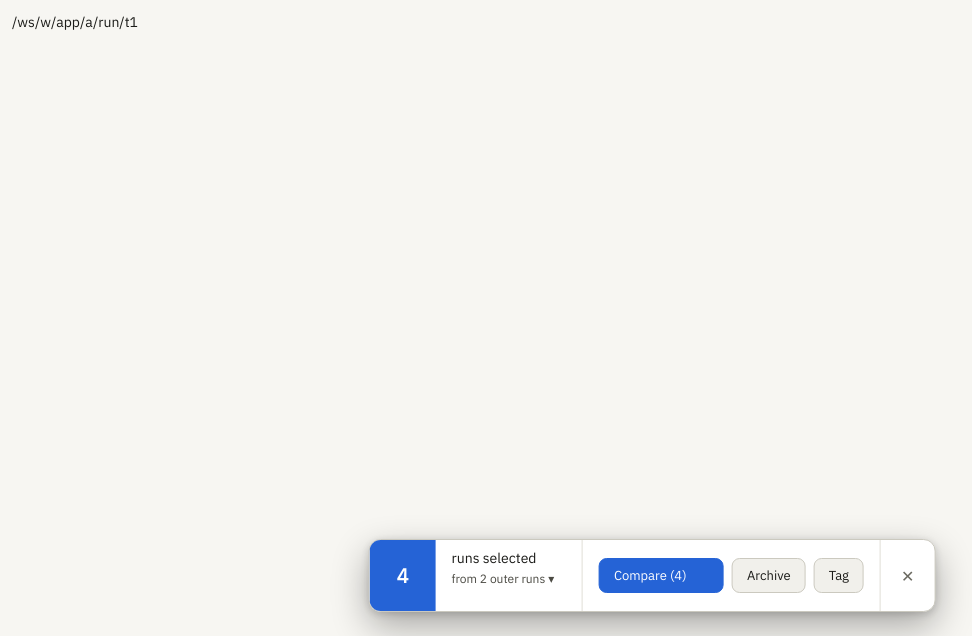
Scenario: the expanded tray › removes one pick
Step 1. Click the button "from 2 outer runs ▾" → (503, 578), box left=452, top=571, right=554, bottom=586
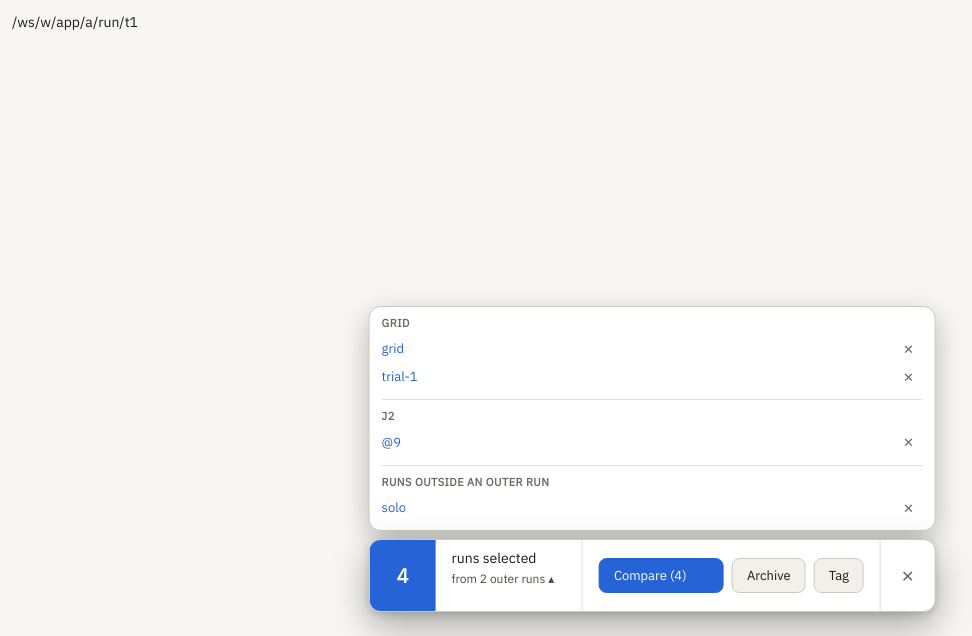
Step 2. Click the button named "Remove trial-1" → (908, 377), box left=894, top=363, right=922, bottom=391
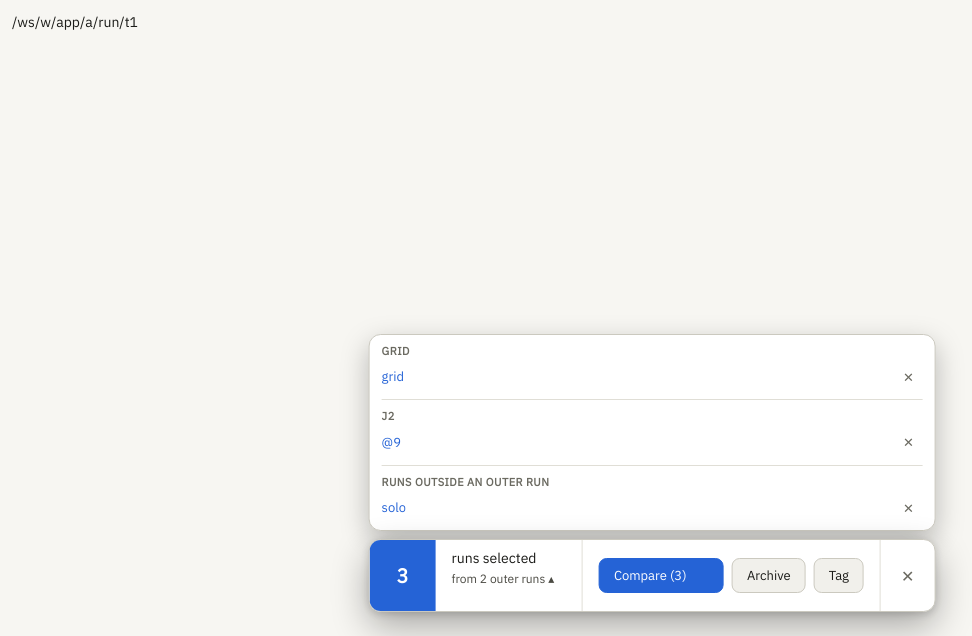
Result: the link "trial-1" is gone
